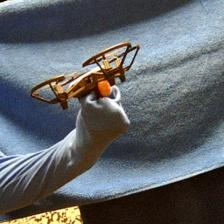drone: (27, 38, 140, 111)
